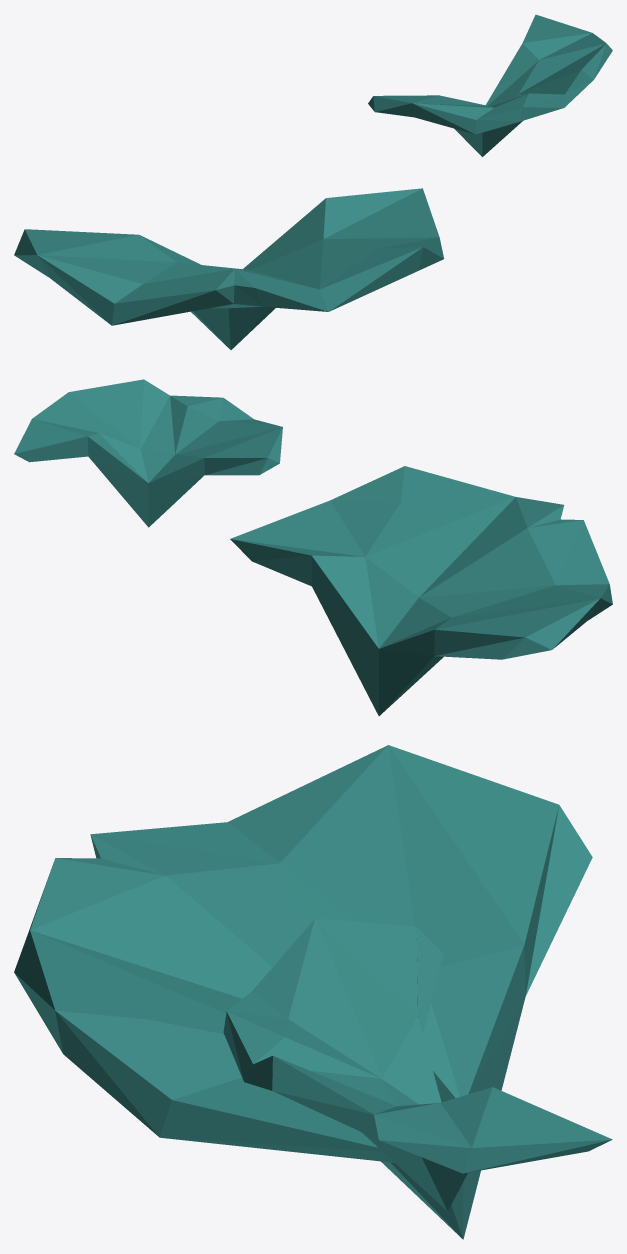
The model's file is SM_Coral_Plate_Dead_E.fbx.
3 views of the same model, one above another, from view 1: azimuth 30°, elevation 25°; view 2: azimuth 150°, elevation 25°; view 3: azimuth 270°, elevation 25° (orthographic). The views are drawn at different scales.
Visible parts, largest first — view 1: coral-plate-dead-e; view 2: coral-plate-dead-e; view 3: coral-plate-dead-e.
Boxes of the visible parts, x1,y1,x2,y2 form: coral-plate-dead-e: [14, 14, 612, 349]; coral-plate-dead-e: [14, 379, 612, 715]; coral-plate-dead-e: [14, 745, 612, 1239].
Bounding box in the file's own units: 1.19 × 0.4795 × 0.5716.
